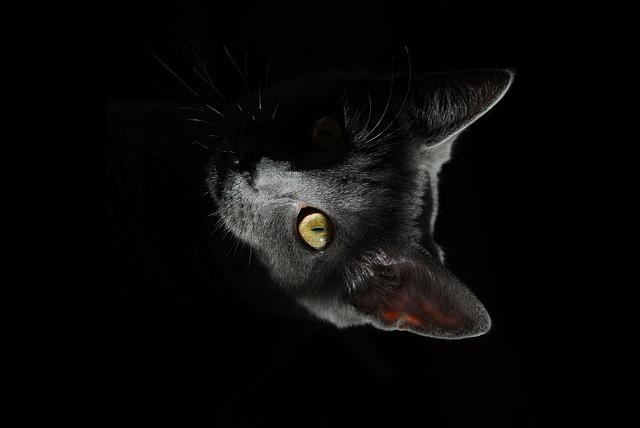cat: (171, 50, 517, 341)
